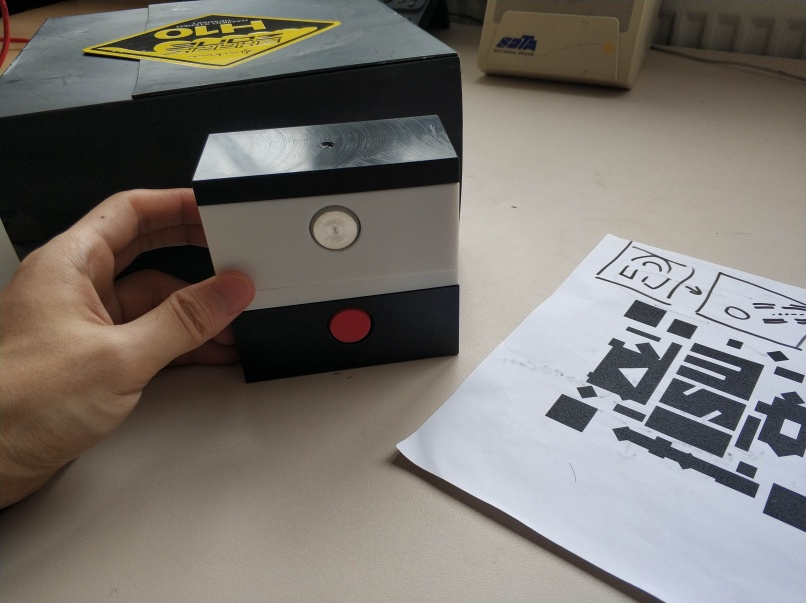black+white+silver: (191, 114, 464, 287)
white+black+red: (235, 270, 462, 385)
